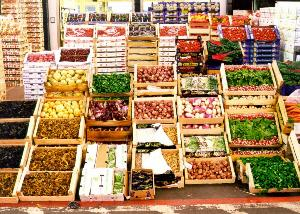apple: (189, 15, 210, 25), (231, 16, 251, 26), (211, 15, 231, 24)
carrot: (280, 97, 300, 127)
melon: (194, 1, 206, 13), (150, 2, 166, 11), (207, 1, 221, 11), (179, 3, 193, 13), (166, 2, 178, 12)
tomato: (250, 26, 280, 44), (221, 26, 249, 42), (95, 24, 127, 38), (64, 24, 96, 38), (158, 24, 188, 38), (174, 40, 205, 52)
